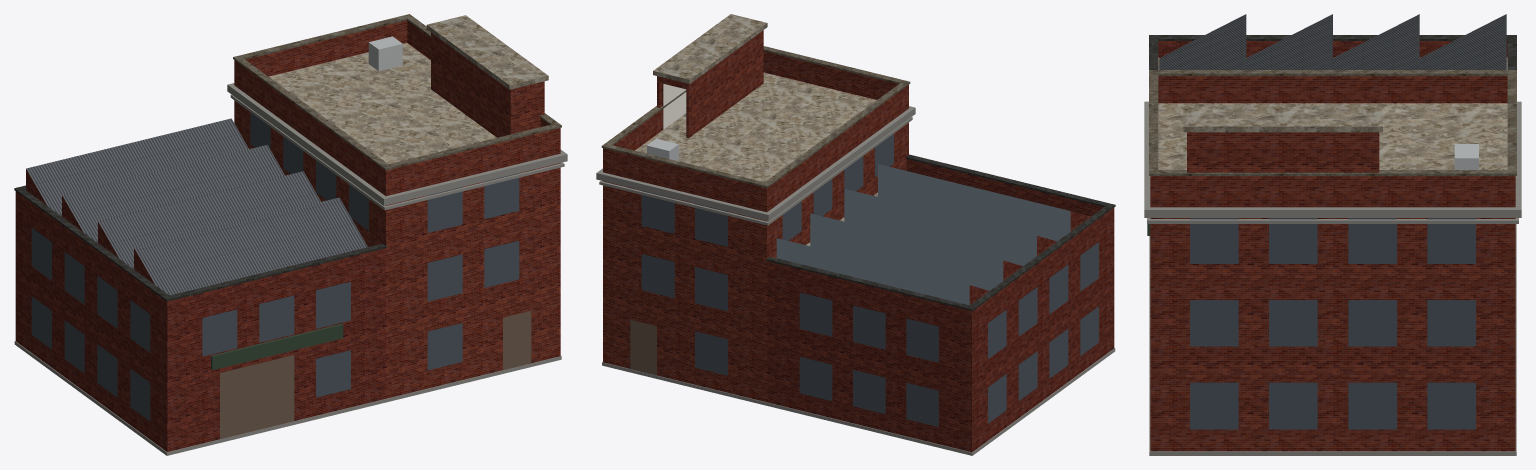
File: mh-sawtooth-works.towns-v1.lod1.glb
3 views of the same model, side by side, from view 1: azimuth 30°, elevation 25°; view 2: azimuth 150°, elevation 25°; view 3: azimuth 270°, elevation 25° (orthographic). The views are drawn at different scales.
Parts seen in each view (by area): view 1: mh-sawtooth-works; view 2: mh-sawtooth-works; view 3: mh-sawtooth-works.
Boxes of the visible parts, x1,y1,x2,y2 form: mh-sawtooth-works: [14, 14, 567, 455]; mh-sawtooth-works: [596, 14, 1115, 455]; mh-sawtooth-works: [1144, 14, 1521, 455].
Size of the model in its own units: 18.24 by 11.95 by 12.4.
Materials: 4 (3 with a texture image).
